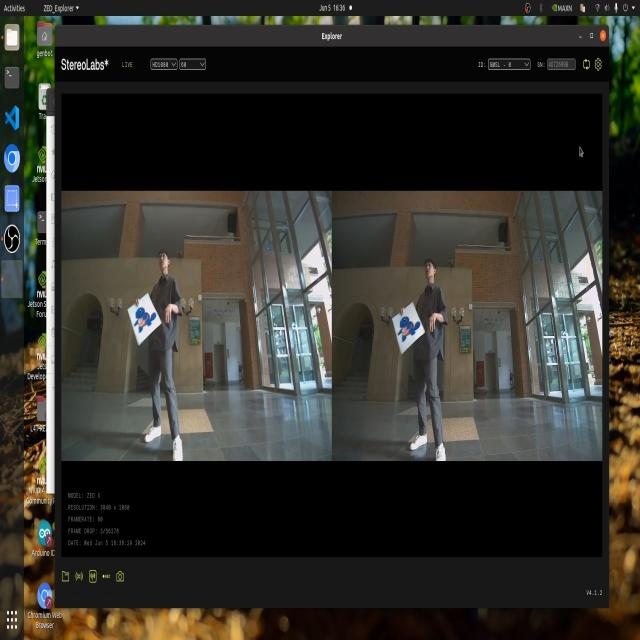blue: (126, 303, 163, 338), (394, 311, 423, 348)
